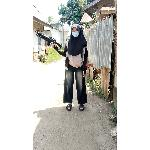Senapan: (34, 29, 64, 51)
